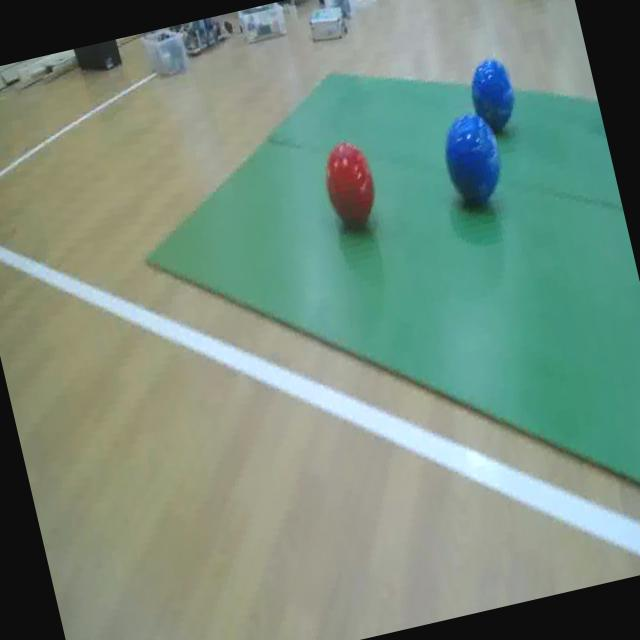blue_ball: (432, 102, 512, 218), (462, 52, 524, 136)
red_ball: (318, 134, 390, 238)
